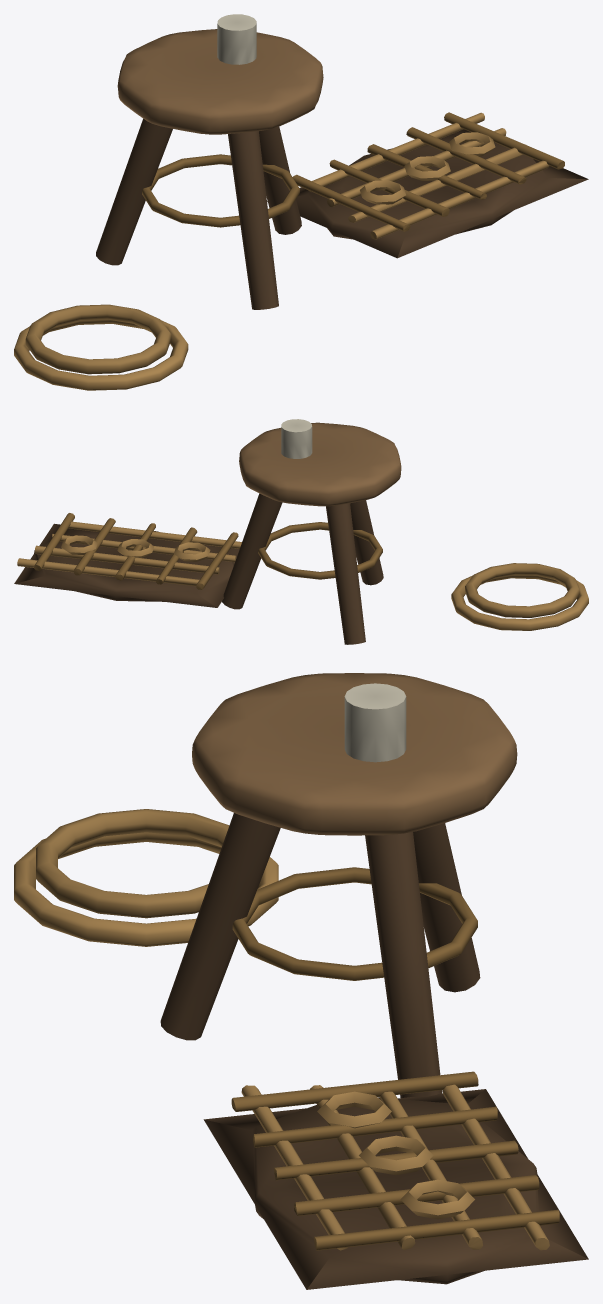
File: mender_stool_a.glb
3 renders of one model, top to bottom at view 1: azimuth 30°, elevation 25°; view 2: azimuth 150°, elevation 25°; view 3: azimuth 270°, elevation 25°, orthographic. The views are drawn at different scales.
Visible parts, largest first — view 1: Surface; view 2: Surface; view 3: Surface.
Part boxes in pixels (<box>): Surface: <box>14,14,588,390</box>; Surface: <box>14,419,588,644</box>; Surface: <box>14,673,588,1289</box>.
Bounding box in the file's own units: 2.65 × 0.9663 × 1.38.
